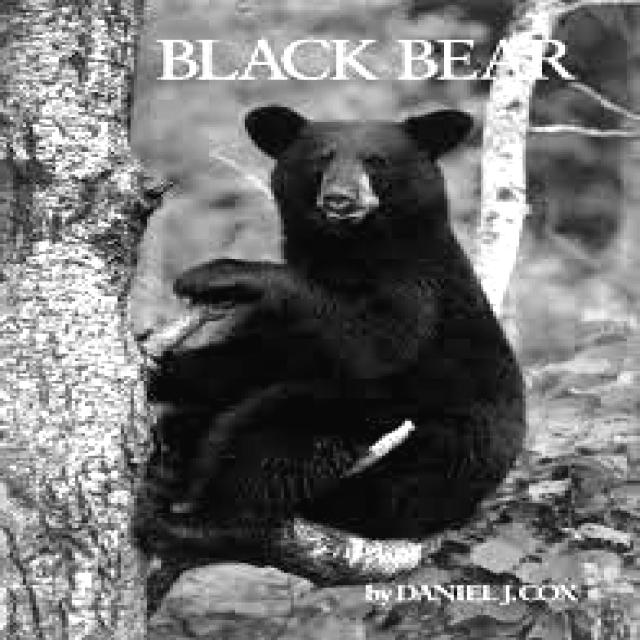bear: (211, 92, 536, 510)
